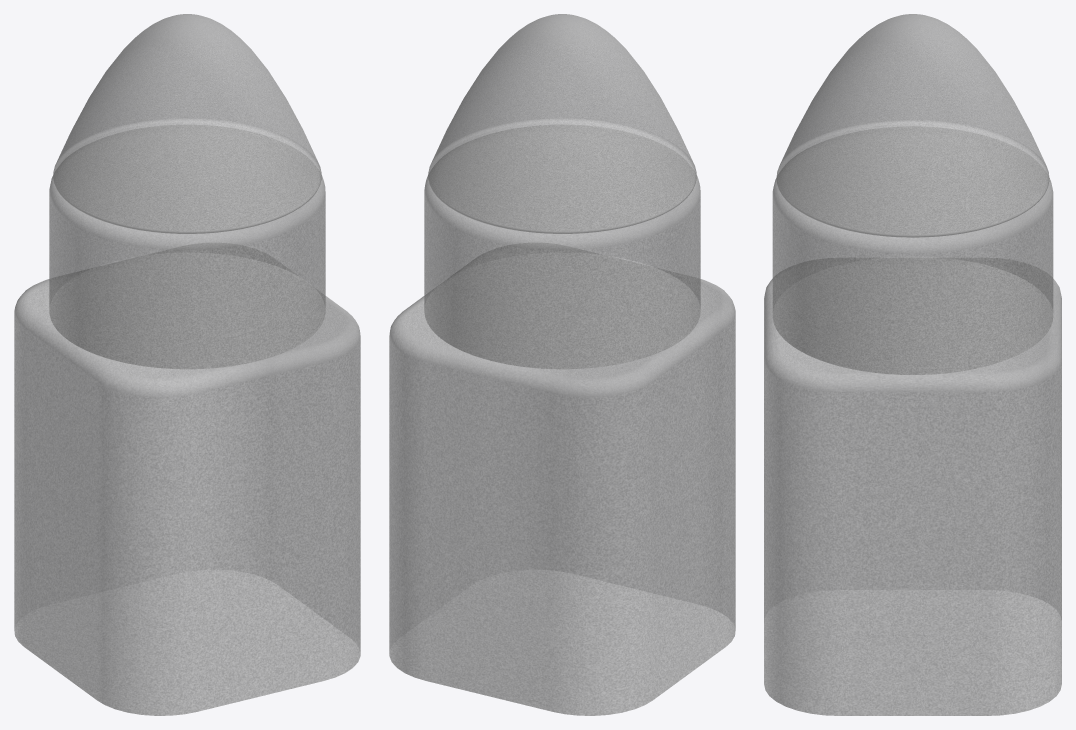
Rendered from level1-obj2.gltf.
3 views of the same model, side by side, from view 1: azimuth 30°, elevation 25°; view 2: azimuth 150°, elevation 25°; view 3: azimuth 270°, elevation 25° (orthographic).
Visible parts, largest first — view 1: model1; view 2: model1; view 3: model1.
Part boxes in pixels (x1,y1,x2,y2): model1: (14,14,360,715); model1: (389,14,735,715); model1: (764,14,1061,715).
Size of the model in its own units: 10.84 by 25.47 by 10.84.
1 material, 1 textured.
